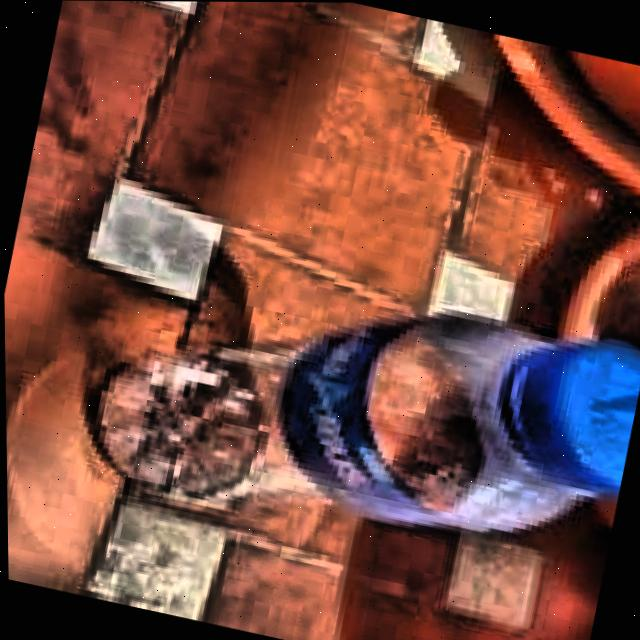plastic: (43, 221, 640, 592)
